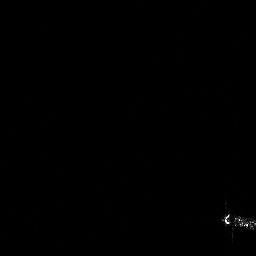ship: (225, 213, 256, 230)
